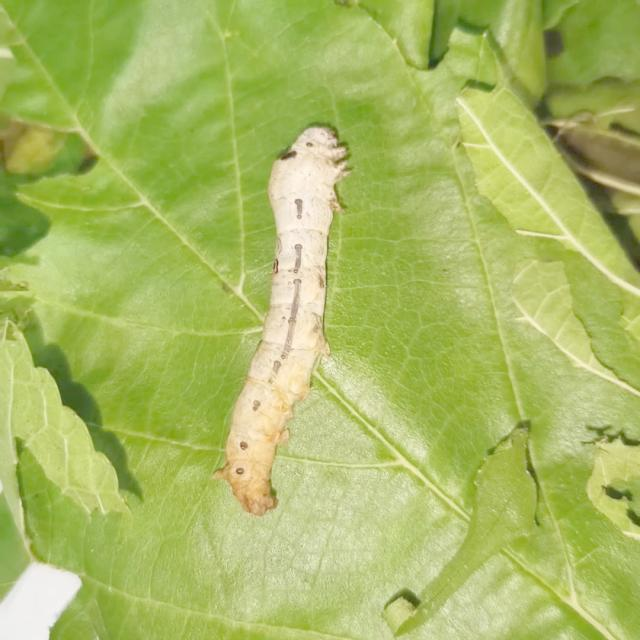Grasserie: (187, 73, 401, 578)
